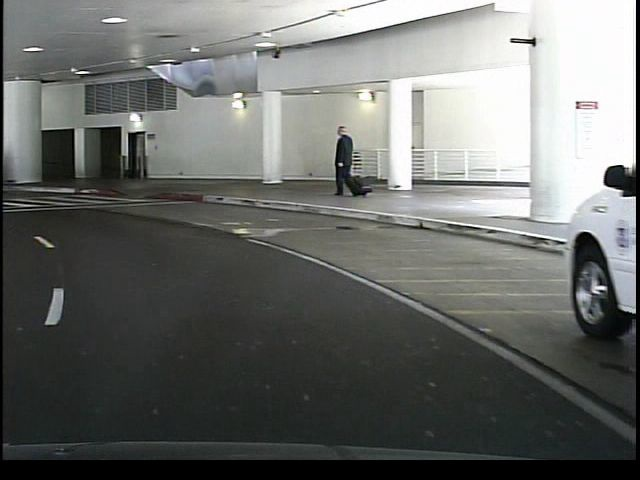person: (324, 123, 359, 201)
